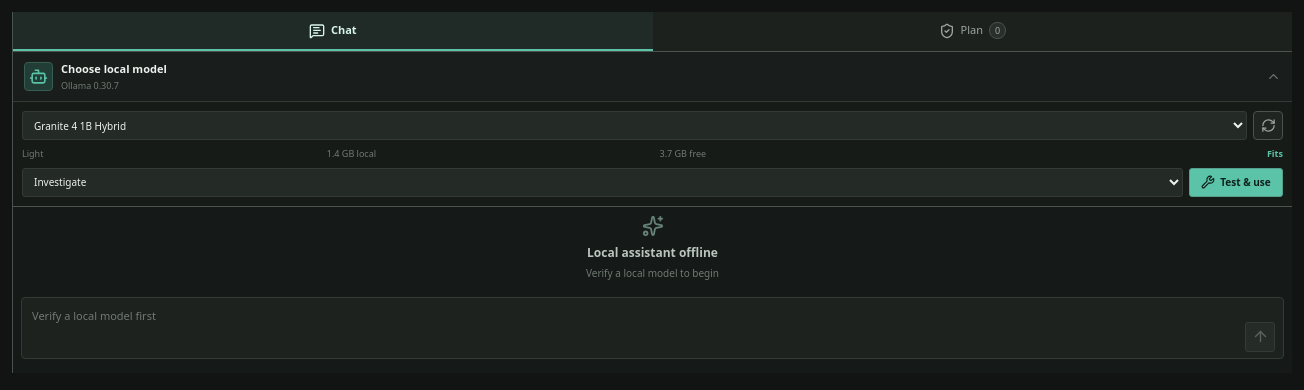
Test: AgentDock › verifies a local model, streams a turn, and hands a plan to the Plan tab
Click the button "Test & use".
click(1236, 182)  # box [1189,168,1283,196]
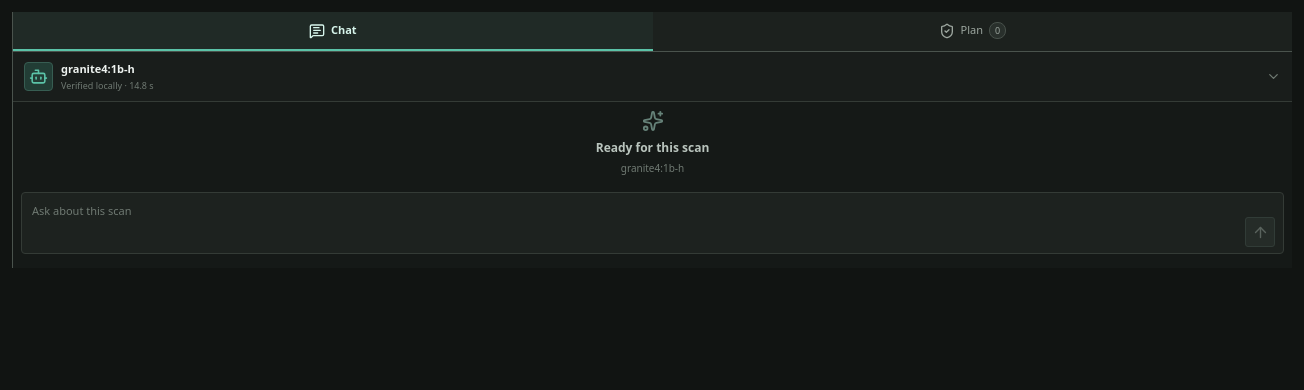
Expected: the text "Ready for this scan" is shown, [596,139,709,157]
Type "Build a cleanup plan" into the text box named "Message ClutterHunter".
click(634, 223); type("Build a cleanup plan")  # box [28,199,1239,247]
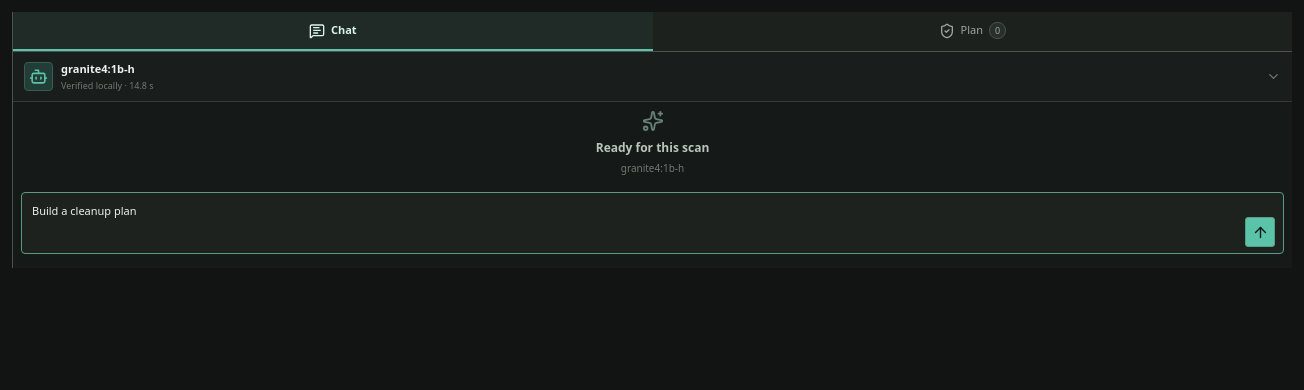
Click the button named "Send message".
click(1260, 232)  # box [1245,217,1275,247]
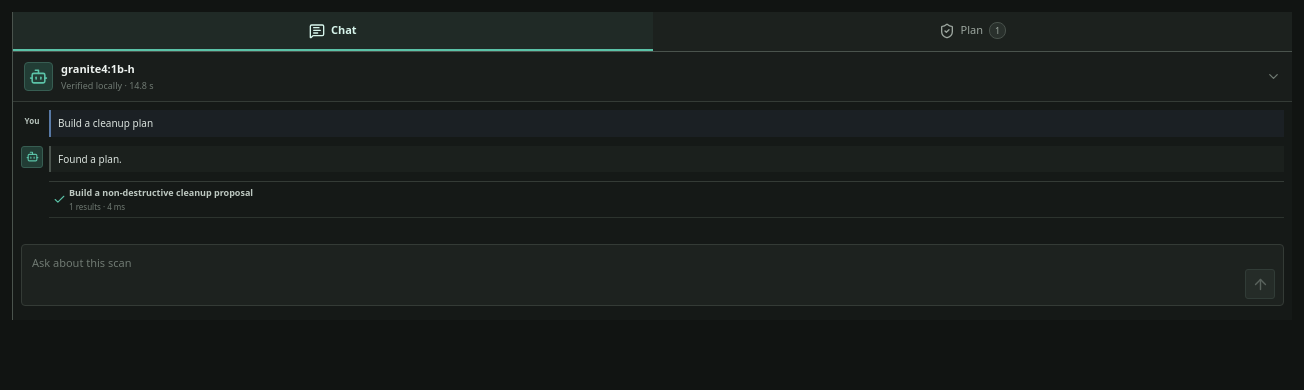
Expected: the text "Found a plan." is shown, [58,152,122,166]
Expected: the text "Build a non-destructive cleanup proposal" is shown, [69,186,253,199]
Click the tab "Plan 1".
click(972, 32)  # box [652,12,1292,51]
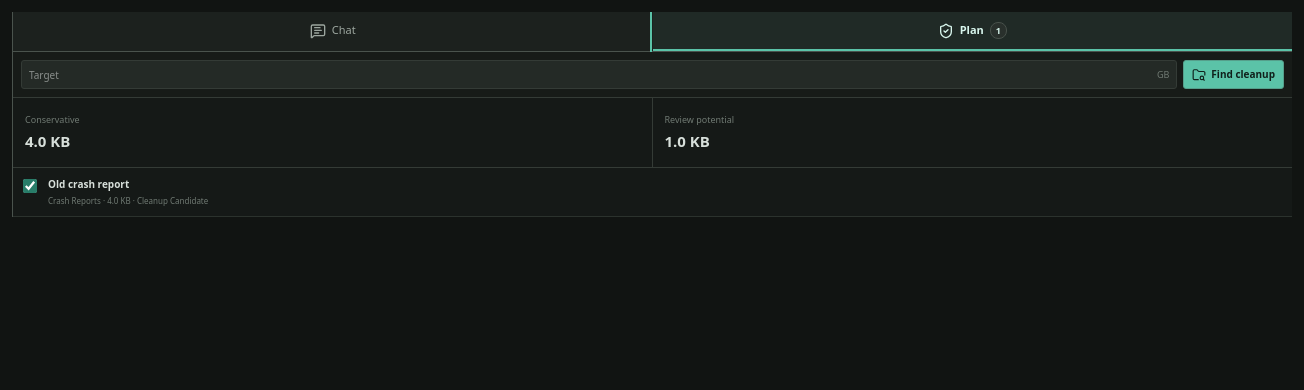
Expected: the text "Old crash report" is shown, [48,177,129,191]
Expected: the text "4.0 KB" is shown, [25,130,70,150]
